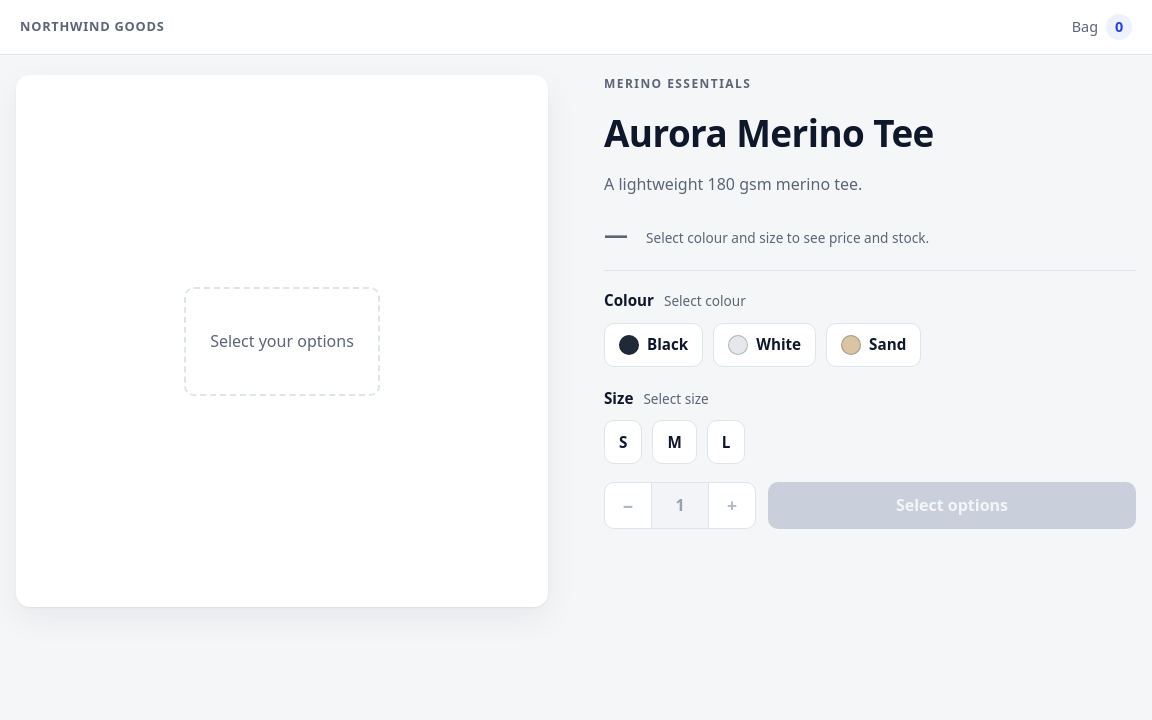
Test: ProductDetailPage › disables a combination that has no SKU at all
Check: the heading "Aurora Merino Tee" is shown, box [604,108,934,158]
Check: the radio button labelled "M" is enabled, box [652,420,697,464]
Click the radio button labelled "Sand": (874, 345) [826,323,921,367]
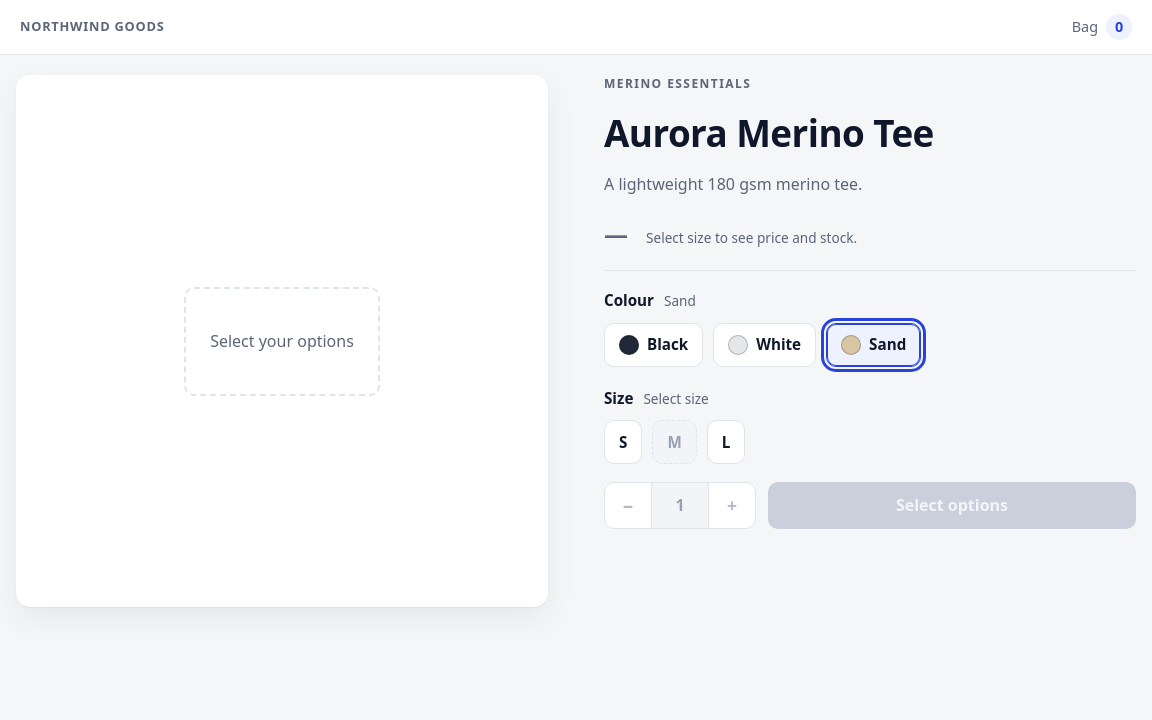
Check: the radio button labelled "M" is disabled, box [652,420,697,464]
